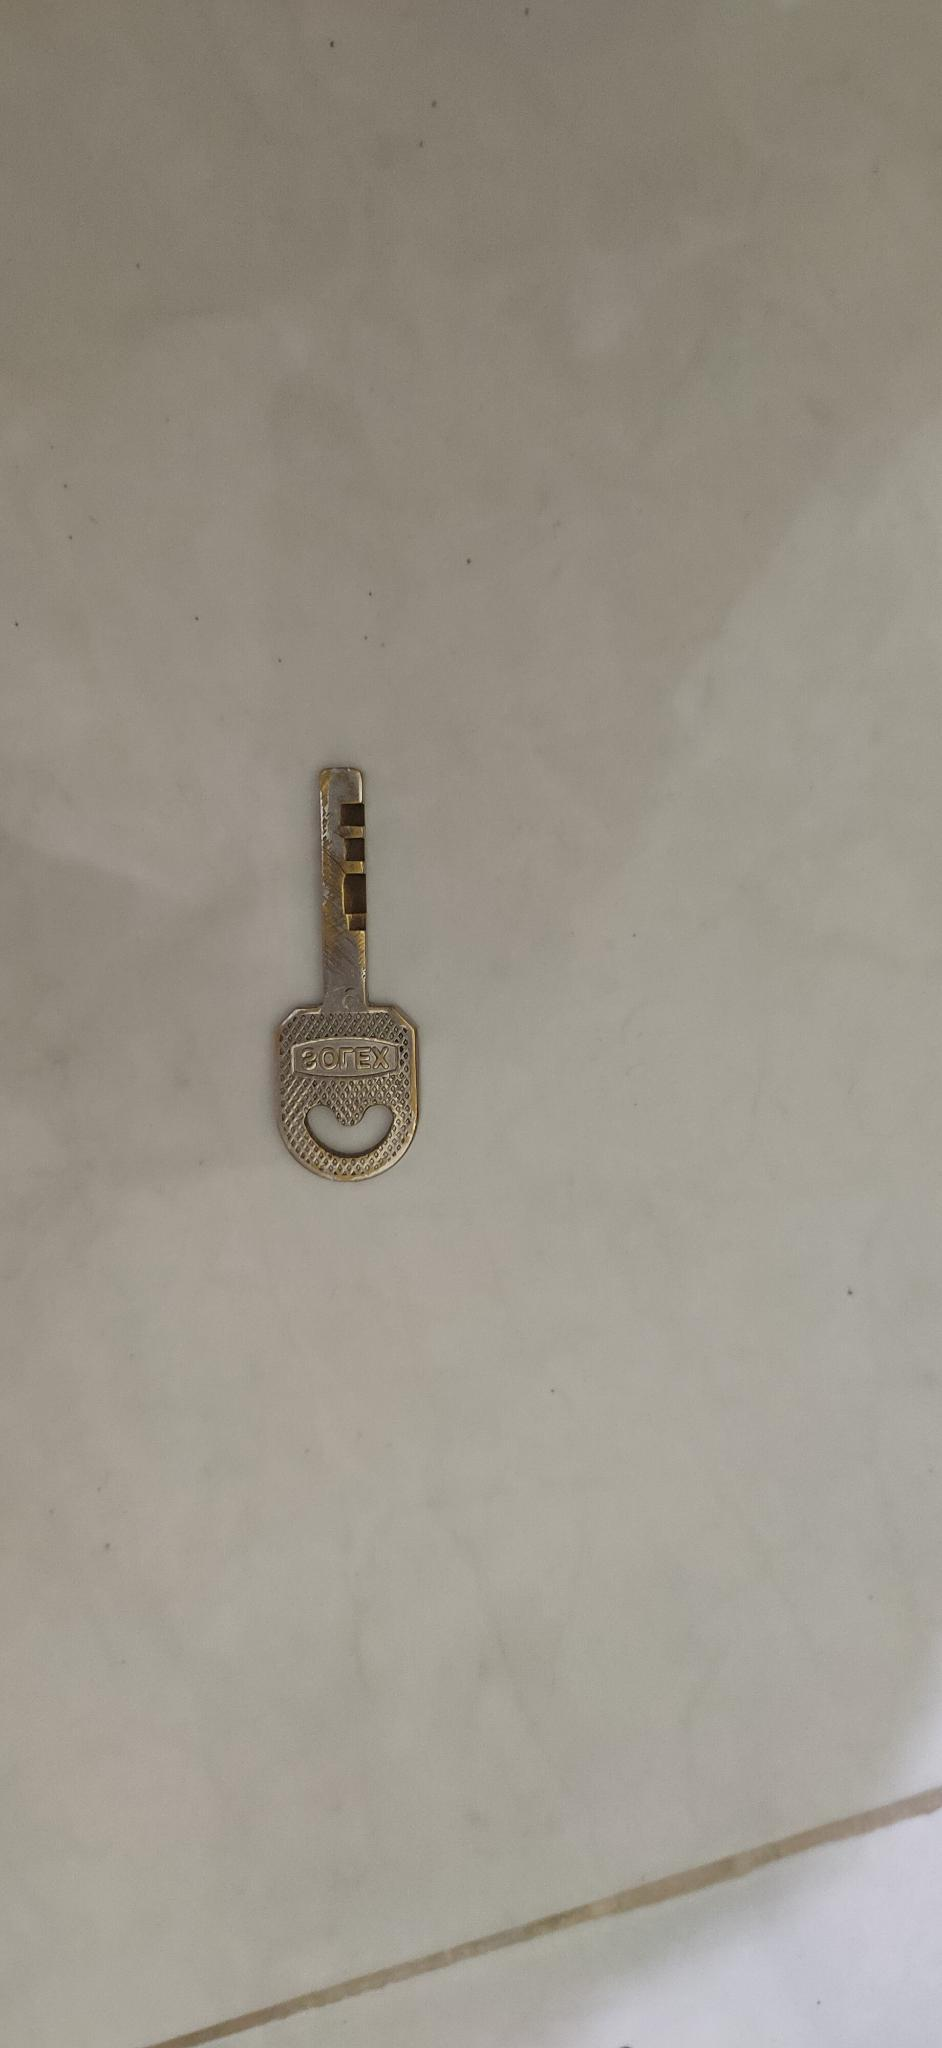keys: (243, 728, 472, 1233)
